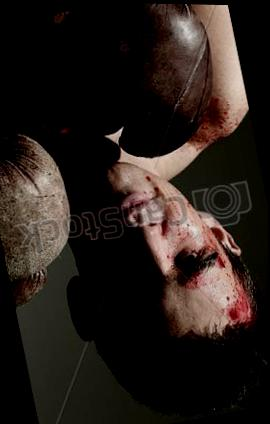Fire: (144, 175, 213, 249), (189, 88, 242, 148), (190, 230, 232, 288), (229, 273, 253, 324)
